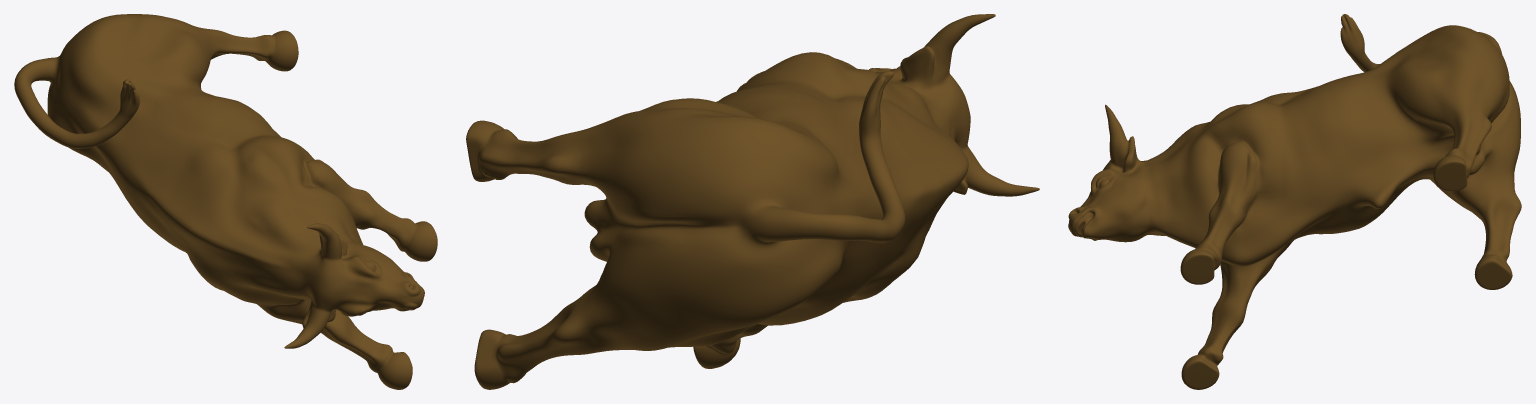
The model's file is bull.fbx.
3 views of the same model, side by side, from view 1: azimuth 30°, elevation 25°; view 2: azimuth 150°, elevation 25°; view 3: azimuth 270°, elevation 25° (orthographic). The views are drawn at different scales.
Parts seen in each view (by area): view 1: 13927_Charging_Bull_Statue_of_Wall_Street_v1_L1; view 2: 13927_Charging_Bull_Statue_of_Wall_Street_v1_L1; view 3: 13927_Charging_Bull_Statue_of_Wall_Street_v1_L1.
Boxes of the visible parts, box(x1,y1,x2,y2) form: 13927_Charging_Bull_Statue_of_Wall_Street_v1_L1: box(14, 14, 437, 389); 13927_Charging_Bull_Statue_of_Wall_Street_v1_L1: box(466, 14, 1039, 389); 13927_Charging_Bull_Statue_of_Wall_Street_v1_L1: box(1068, 14, 1521, 389).
Bounding box in the file's own units: 30090 × 31741 × 45167.
